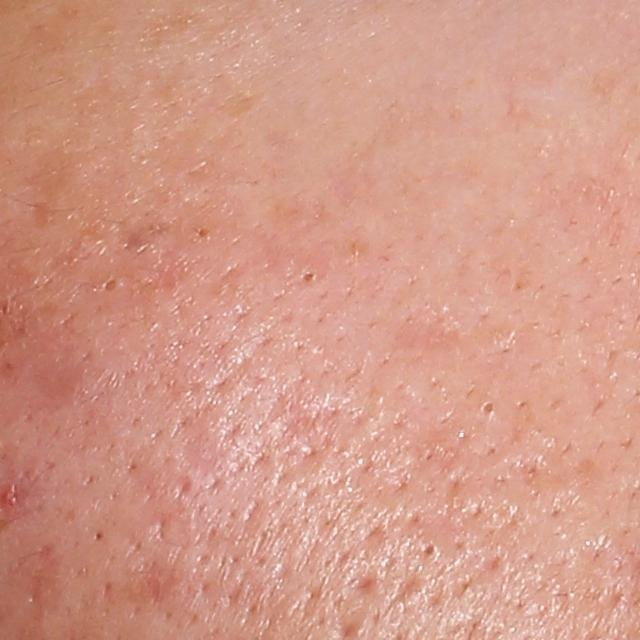comedo: (416, 536, 442, 563), (99, 275, 121, 297), (298, 269, 319, 287), (194, 224, 212, 243)
